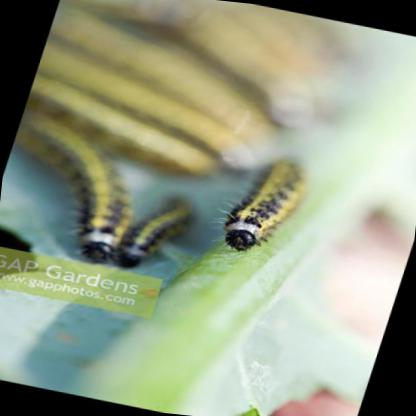pieris: (16, 117, 126, 264), (222, 165, 311, 250), (115, 204, 197, 267)
